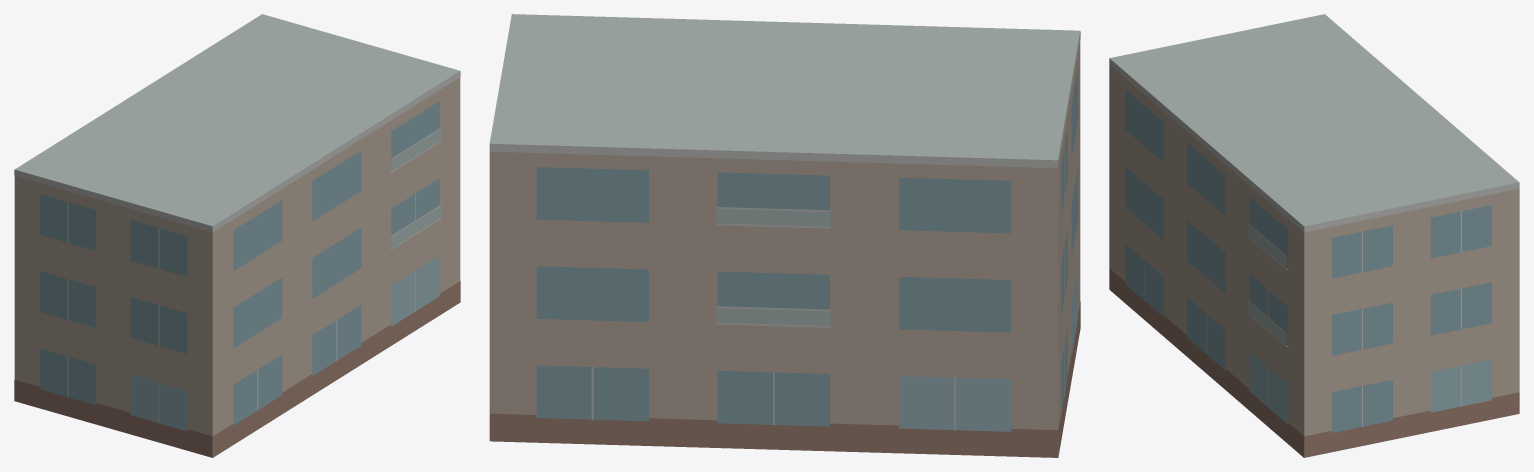
Rendered from survey-upis-32698025.glb.
The picture shows the model from 3 angles, left to right: view 1: azimuth 30°, elevation 25°; view 2: azimuth 150°, elevation 25°; view 3: azimuth 270°, elevation 25°; orthographic projection. The views are drawn at different scales.
Visible parts, largest first — view 1: survey-upis-32698025.tmp; view 2: survey-upis-32698025.tmp; view 3: survey-upis-32698025.tmp.
Boxes of the visible parts, <box> form: survey-upis-32698025.tmp: <box>14,14,460,457</box>; survey-upis-32698025.tmp: <box>489,14,1080,457</box>; survey-upis-32698025.tmp: <box>1109,14,1519,457</box>.
Bounding box in the file's own units: 18.02 × 9.15 × 14.7.
